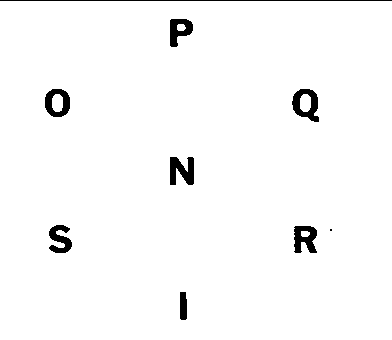I: (174, 288, 195, 324)
